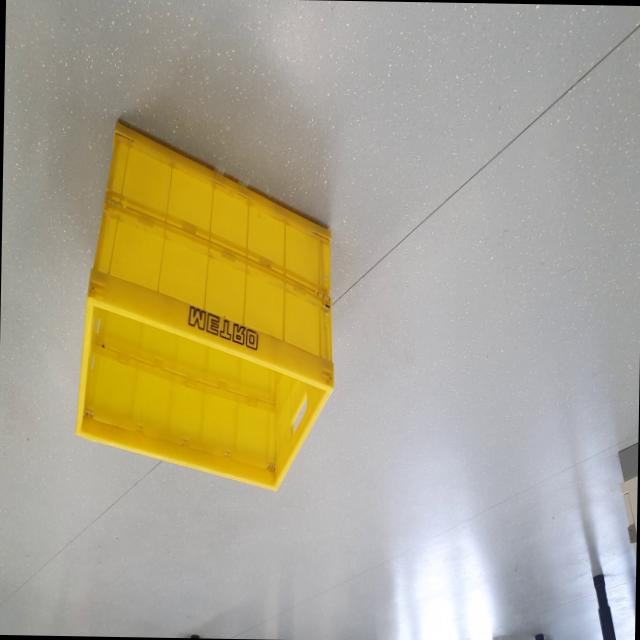box: (60, 116, 363, 521)
